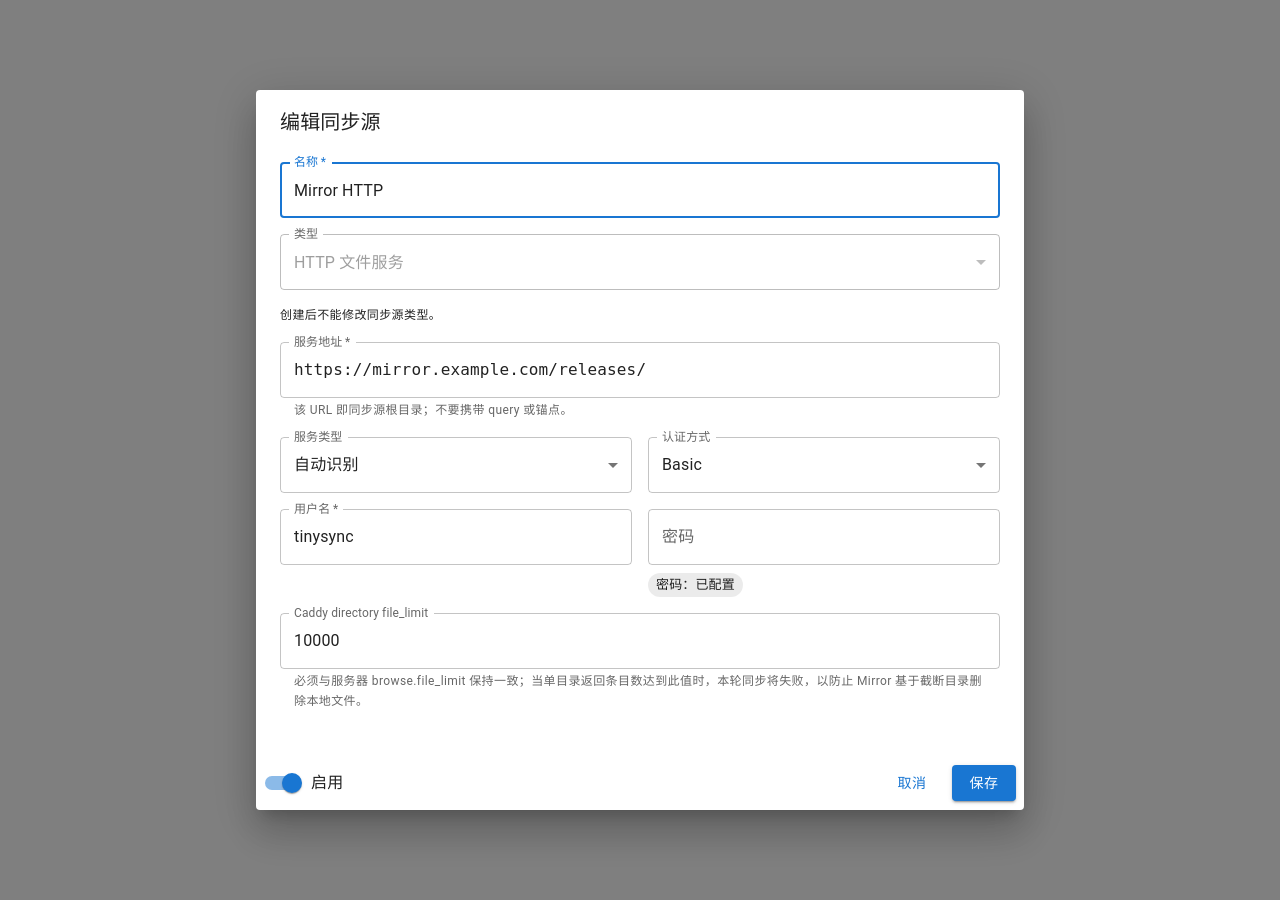
Scenario: SourceDialog HTTP 文件服务 › 编辑：显式清除密码后保存禁用（basic 必须持有密码，空密码会被后端拒绝）
// 清除按钮只在 dirty 后出现：先输入再清除。
In the password field labelled "密码": [824, 537] box [648,509,1000,565], type "draft-pass"
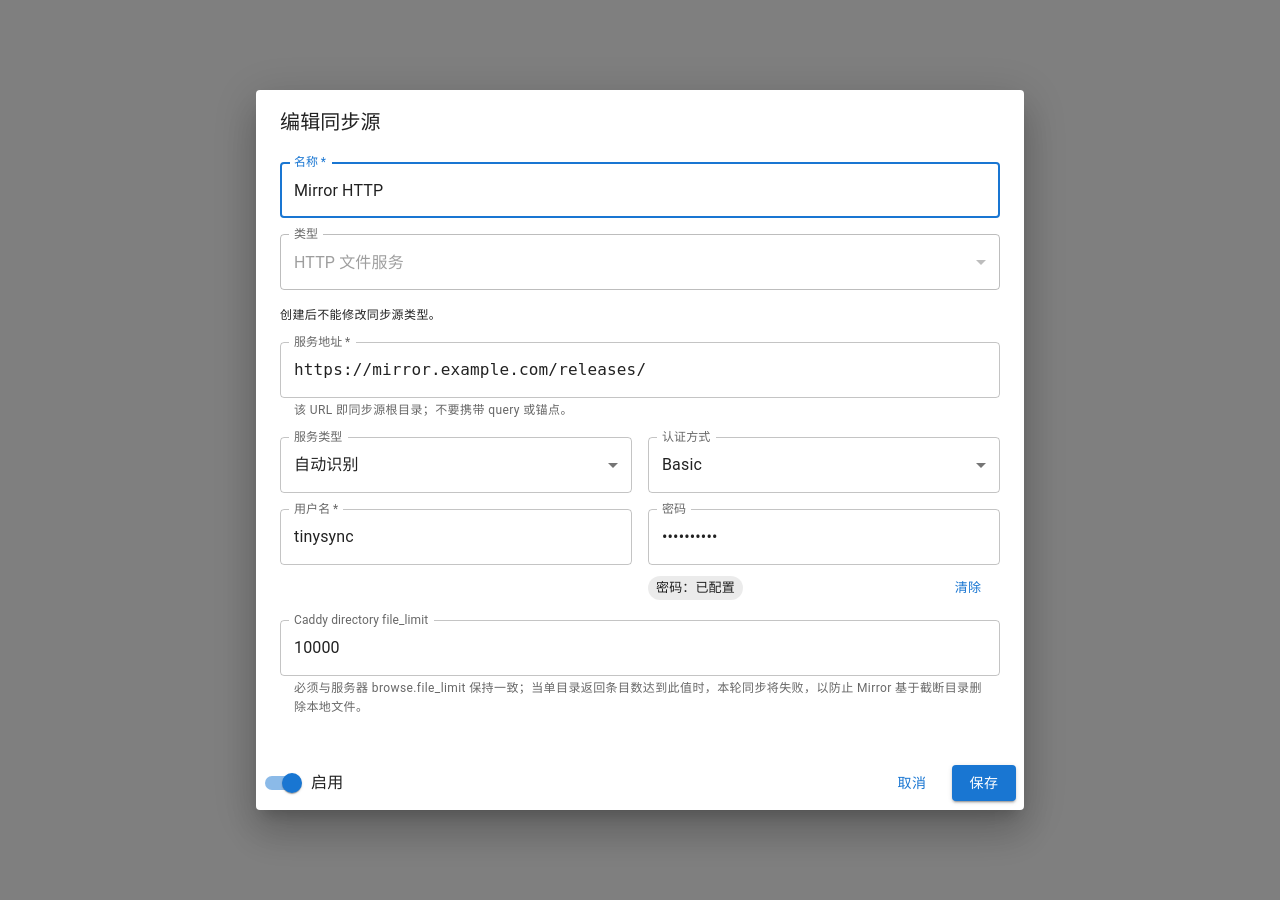
Click the button "清除": [968, 588] box [936,573,1000,604]
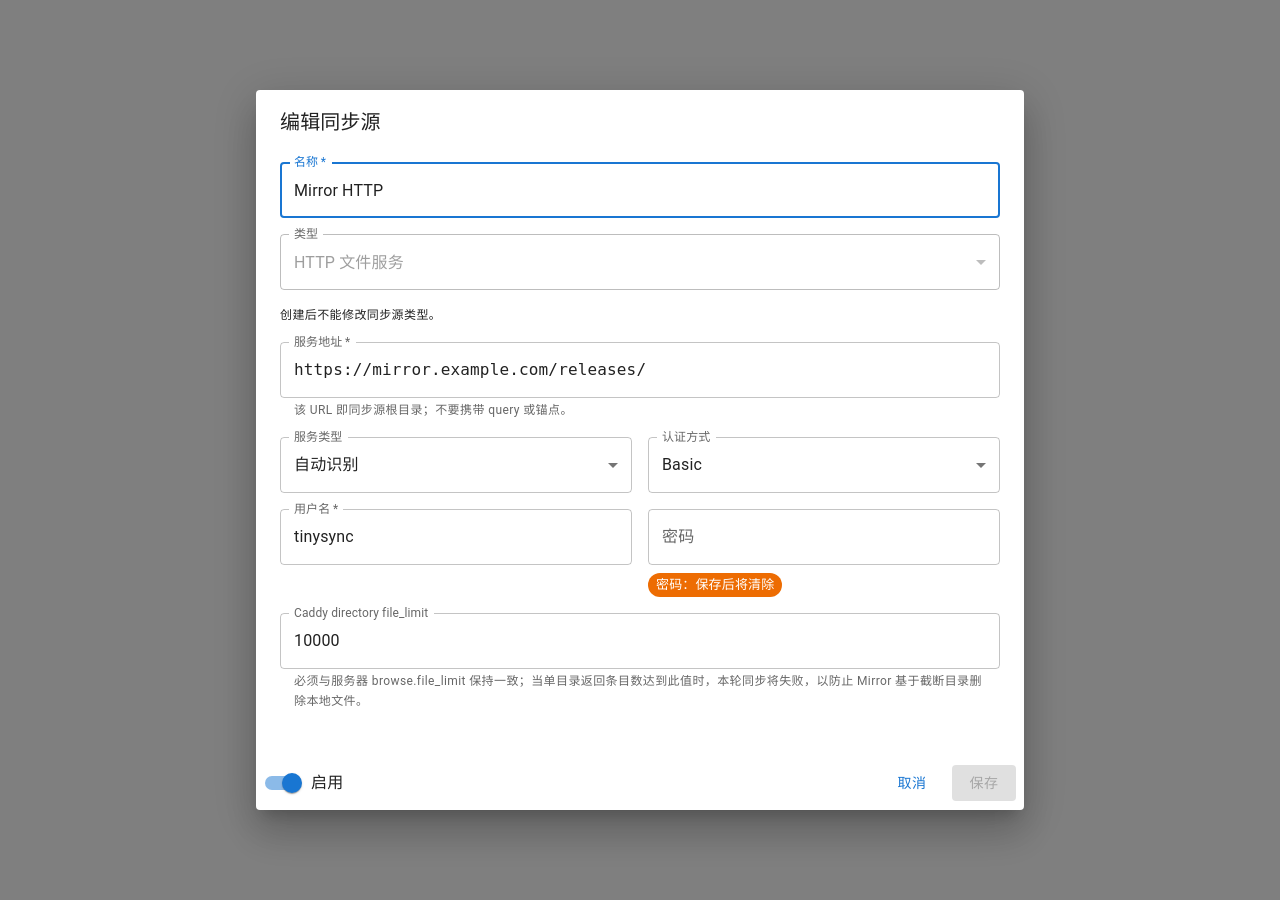
Check: the button "保存" is disabled, box [952,765,1016,801]
